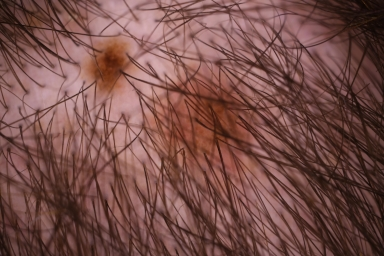melanoma: (159, 88, 251, 168), (87, 47, 125, 89)
